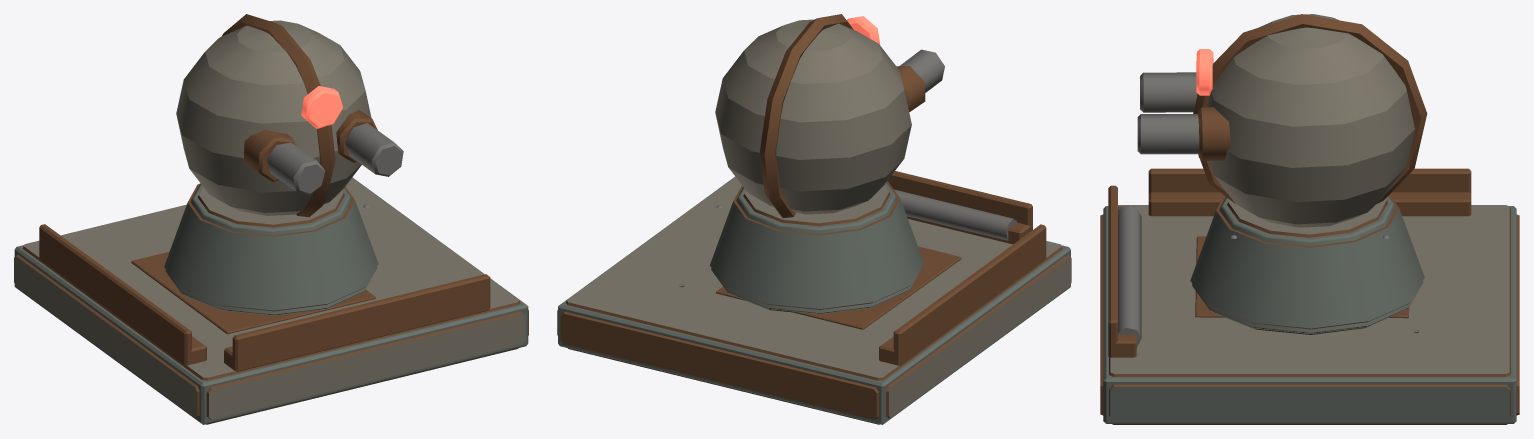
File: R4X_PointDefense.fbx
3 renders of one model, left to right at view 1: azimuth 30°, elevation 25°; view 2: azimuth 150°, elevation 25°; view 3: azimuth 270°, elevation 25°, orthographic. The views are drawn at different scales.
Visible parts, largest first — view 1: R4X_PointDefense_Body, R4X_PointDefense_Turret; view 2: R4X_PointDefense_Body, R4X_PointDefense_Turret; view 3: R4X_PointDefense_Body, R4X_PointDefense_Turret.
Part boxes in pixels (left/top/right/bottom): R4X_PointDefense_Body: left=14, top=177, right=528, bottom=424; R4X_PointDefense_Turret: left=176, top=14, right=403, bottom=217; R4X_PointDefense_Body: left=557, top=171, right=1071, bottom=424; R4X_PointDefense_Turret: left=715, top=14, right=944, bottom=218; R4X_PointDefense_Body: left=1100, top=168, right=1519, bottom=424; R4X_PointDefense_Turret: left=1137, top=14, right=1427, bottom=227.
Size of the model in its own units: 0.52 by 0.4478 by 0.52.
